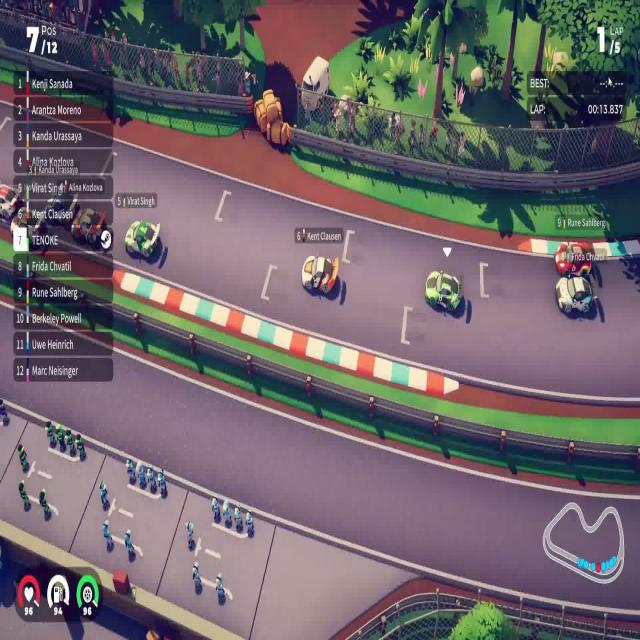car: (554, 270, 594, 316), (424, 268, 462, 313), (301, 254, 339, 296), (124, 218, 160, 260), (554, 240, 593, 278)
